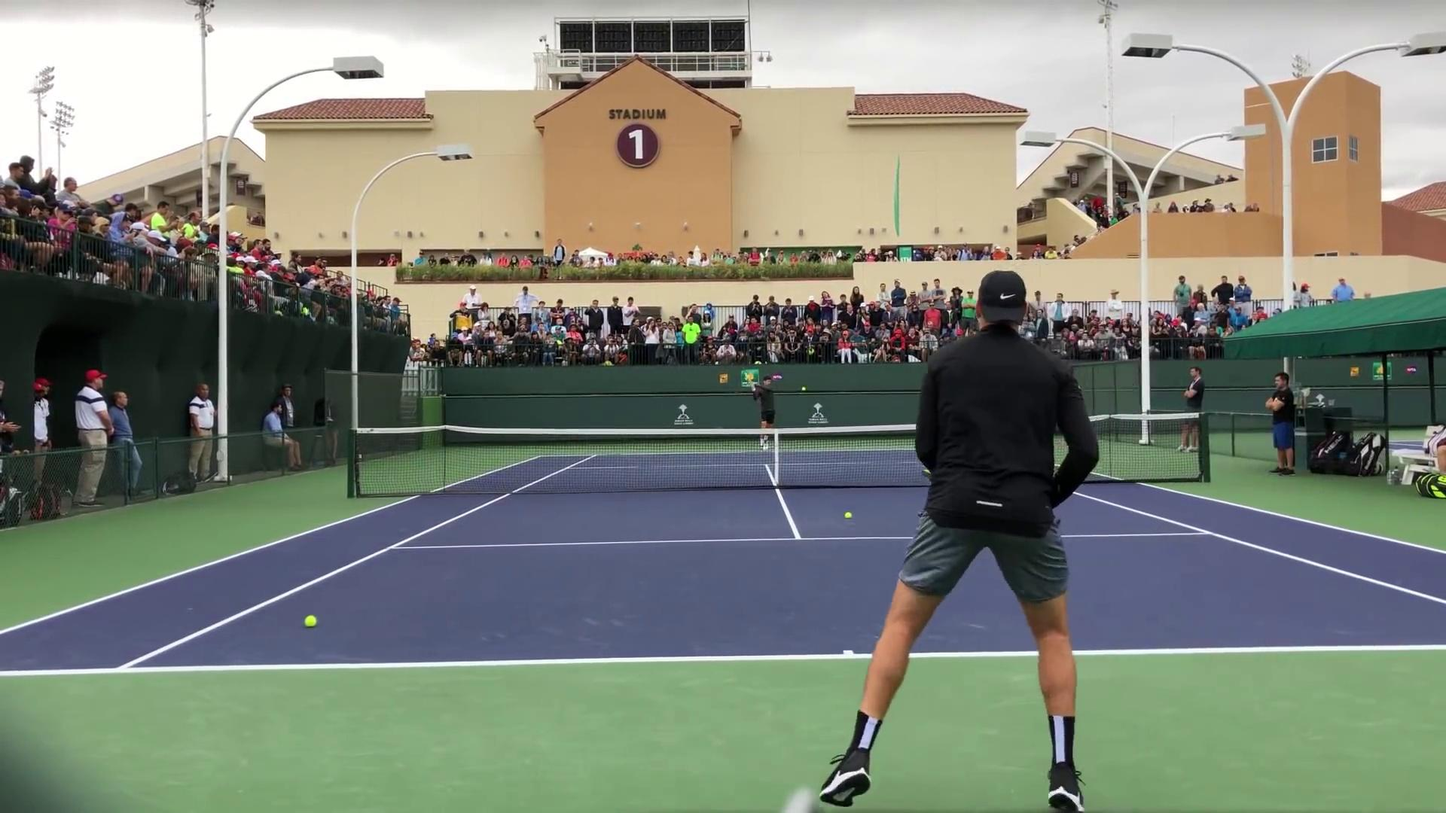ball: (303, 614, 318, 627), (801, 385, 808, 392), (845, 512, 852, 519)
